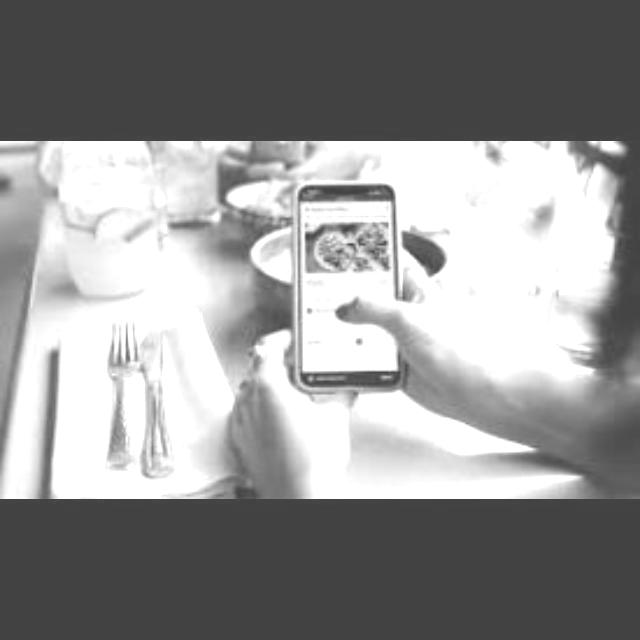fake: (246, 154, 431, 418)
